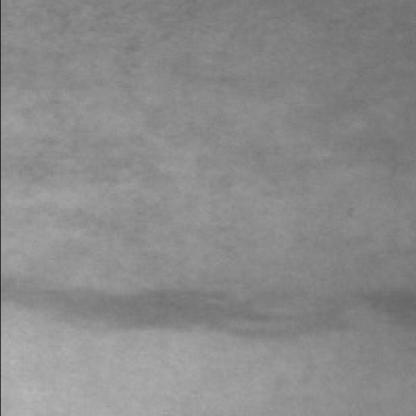inclusion: (12, 273, 358, 337)
